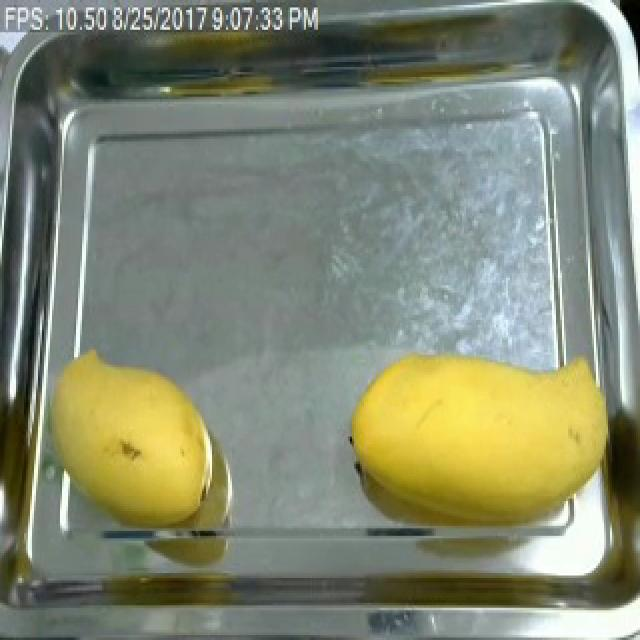fruit: (338, 340, 620, 546), (38, 347, 224, 541)
